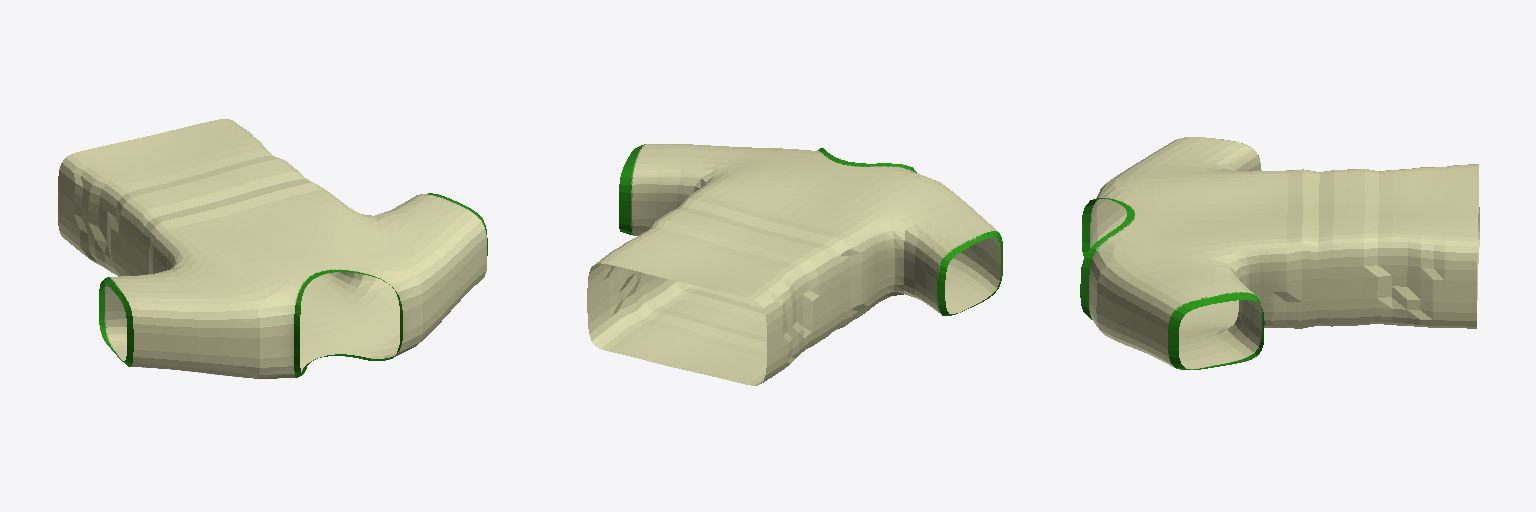
The picture shows the model from 3 angles: view 1: azimuth 30°, elevation 25°; view 2: azimuth 150°, elevation 25°; view 3: azimuth 270°, elevation 25°; orthographic projection.
Visible parts, largest first — view 1: Box001; view 2: Box001; view 3: Box001.
Part boxes in pixels (left/top/right/bottom): Box001: left=58, top=119, right=487, bottom=378; Box001: left=587, top=144, right=1002, bottom=385; Box001: left=1080, top=137, right=1479, bottom=369.
Size of the model in its own units: 52.74 by 14.24 by 50.41.
Materials: 1 (1 with a texture image).